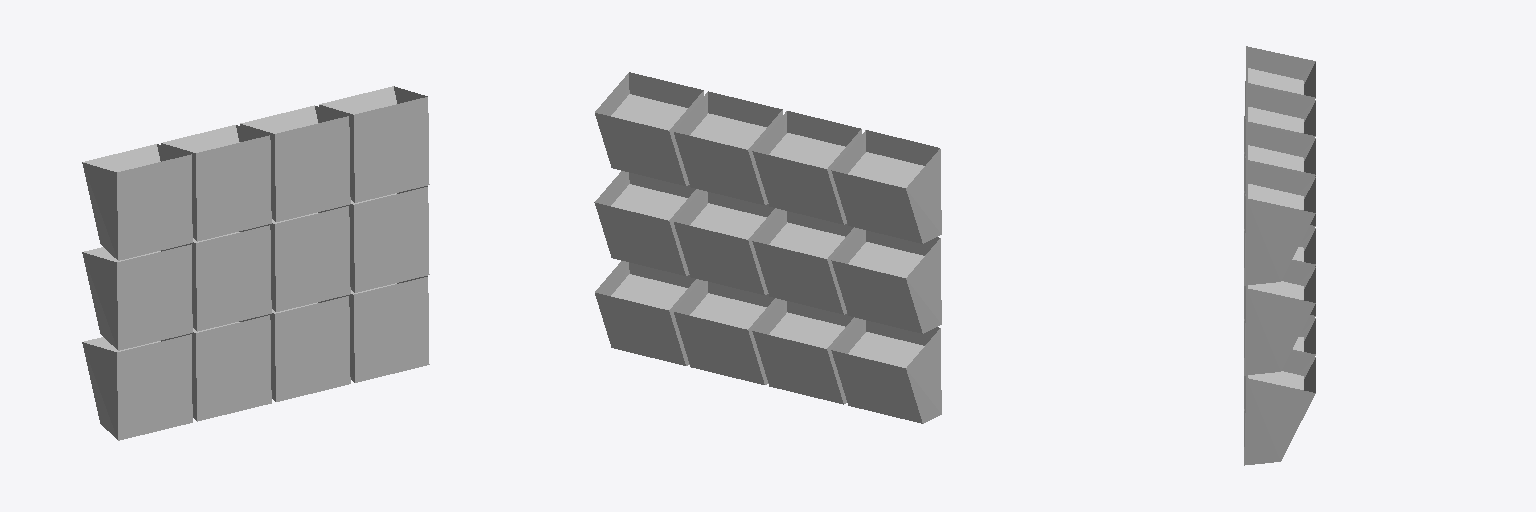
The model's file is plantebakken.obj.
The picture shows the model from 3 angles: view 1: azimuth 30°, elevation 25°; view 2: azimuth 150°, elevation 25°; view 3: azimuth 270°, elevation 25°; orthographic projection.
Visible parts, largest first — view 1: bin_8, bin_4, bin, bin_10, bin_11, bin_9, bin_1, bin_7, bin_5, bin_3, bin_2, bin_6; view 2: bin_8, bin_4, bin, bin_9, bin_11, bin_10, bin_5, bin_1, bin_2, bin_3, bin_7, bin_6 (+12 smaller); view 3: bin_11, bin_3, bin_7, bin_8, bin_9, bin_10, earth_10, earth_8, earth_9, earth_11, earth_3, earth_7.
Part boxes in pixels (x1,y1,x2,y2): bin_8: (82, 144, 192, 260); bin_4: (82, 244, 192, 350); bin: (82, 334, 192, 440); bin_10: (240, 105, 350, 221); bin_11: (319, 86, 429, 202); bin_9: (161, 125, 271, 241); bin_1: (190, 314, 271, 421); bin_7: (348, 186, 429, 292); bin_5: (190, 224, 271, 331); bin_3: (349, 276, 429, 382); bin_2: (269, 295, 350, 401); bin_6: (269, 205, 350, 311); bin_8: (831, 130, 941, 243); bin_4: (831, 228, 941, 333); bin: (831, 318, 941, 423); bin_9: (752, 111, 861, 224); bin_11: (595, 72, 703, 185); bin_10: (674, 91, 782, 204); bin_5: (752, 209, 857, 314); bin_1: (752, 299, 857, 404); bin_2: (674, 280, 778, 384); bin_3: (595, 261, 699, 365); bin_7: (594, 171, 699, 275); bin_6: (674, 190, 778, 294); bin_11: (1244, 162, 1315, 285); bin_3: (1244, 351, 1315, 465); bin_7: (1244, 261, 1315, 375); bin_8: (1244, 46, 1315, 153); bin_9: (1244, 85, 1315, 192); bin_10: (1244, 123, 1315, 230); earth_10: (1248, 145, 1303, 171); earth_8: (1248, 68, 1303, 94); earth_9: (1248, 107, 1303, 132); earth_11: (1248, 184, 1303, 209); earth_3: (1248, 371, 1303, 389); earth_7: (1248, 281, 1303, 299).
Bounding box in the file's own units: 836 × 685 × 167.